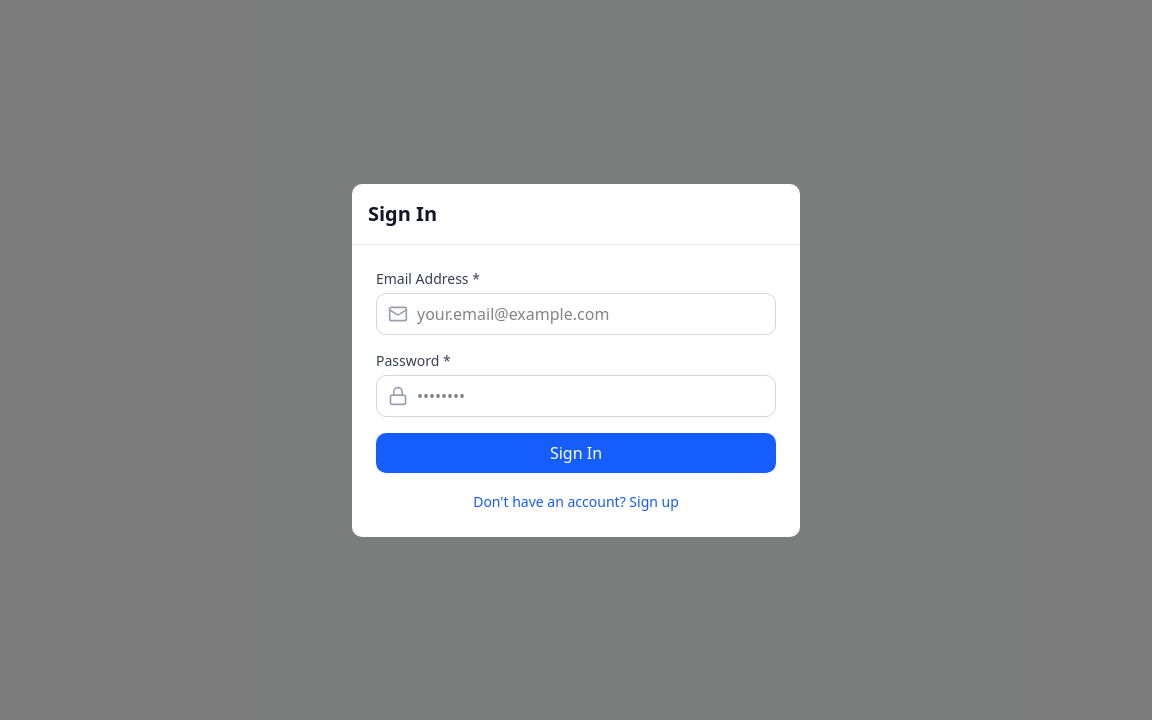
Test: AuthModal › Sign In › signs in with valid credentials and opens the dashboard
The image size is (1152, 720).
Type "jane@example.com" into the field with placeholder "your.email@example.com".
click(576, 314); type("jane@example.com")  # box [376, 292, 776, 334]
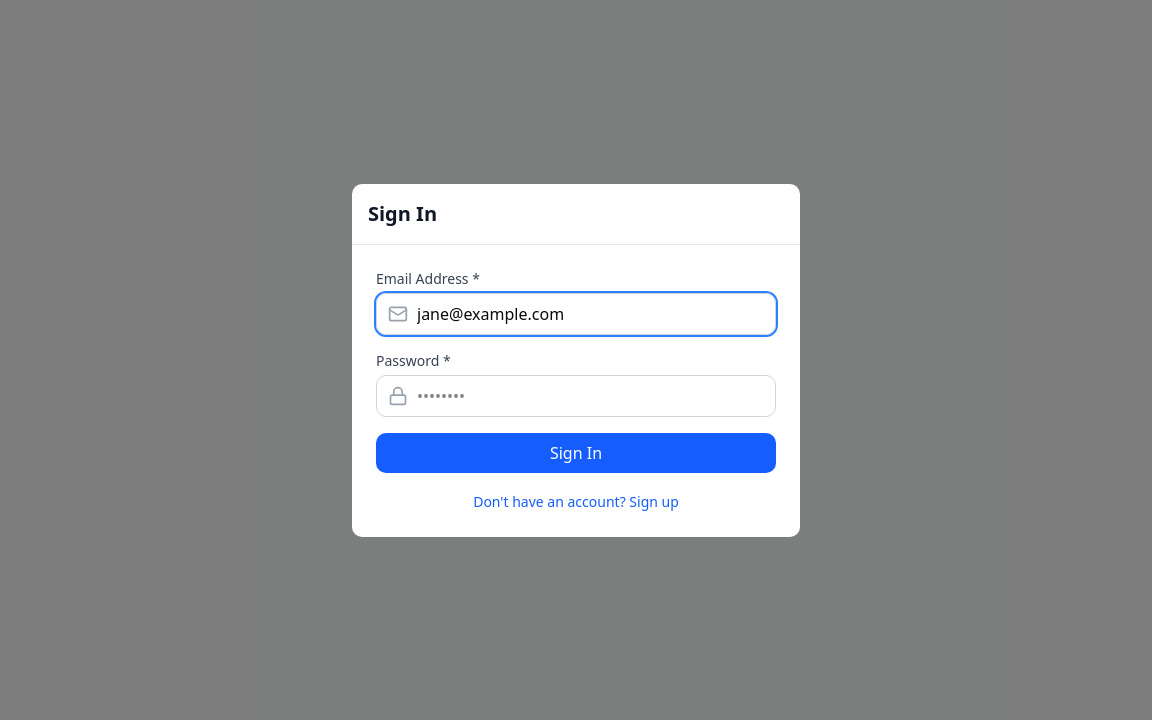
Type "Secret123" into the password field with placeholder "••••••••".
click(576, 396); type("Secret123")  # box [376, 374, 776, 416]
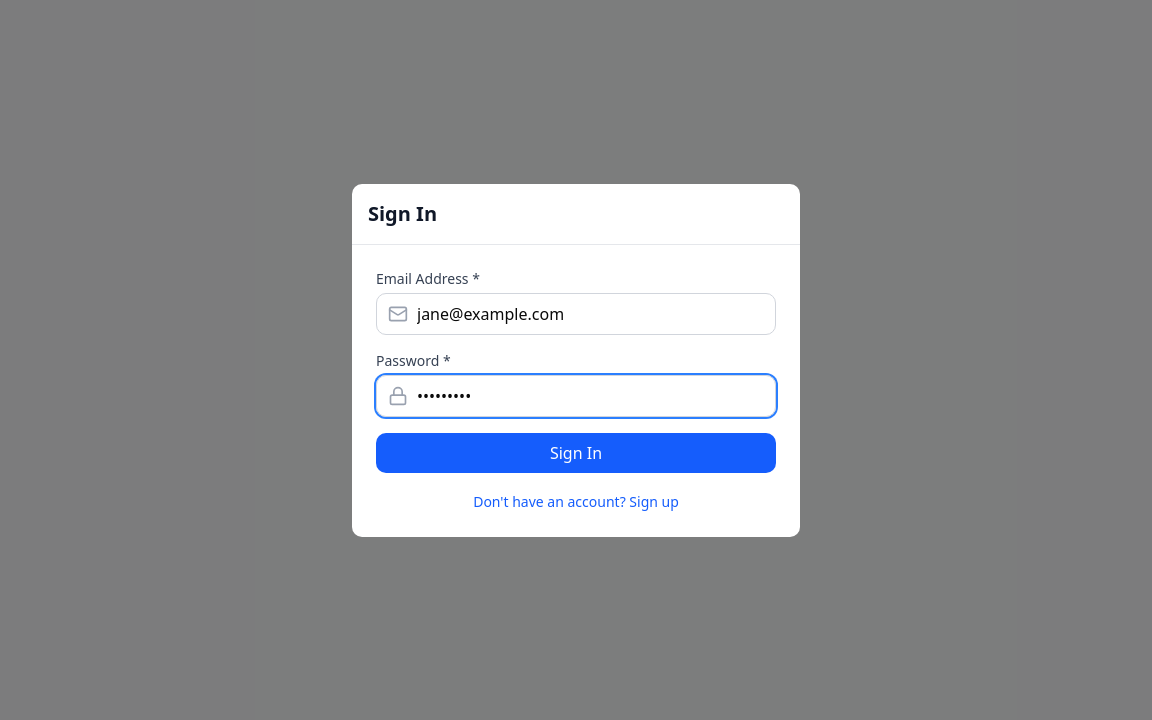
Click the button "Sign In".
click(576, 452)  # box [376, 432, 776, 472]
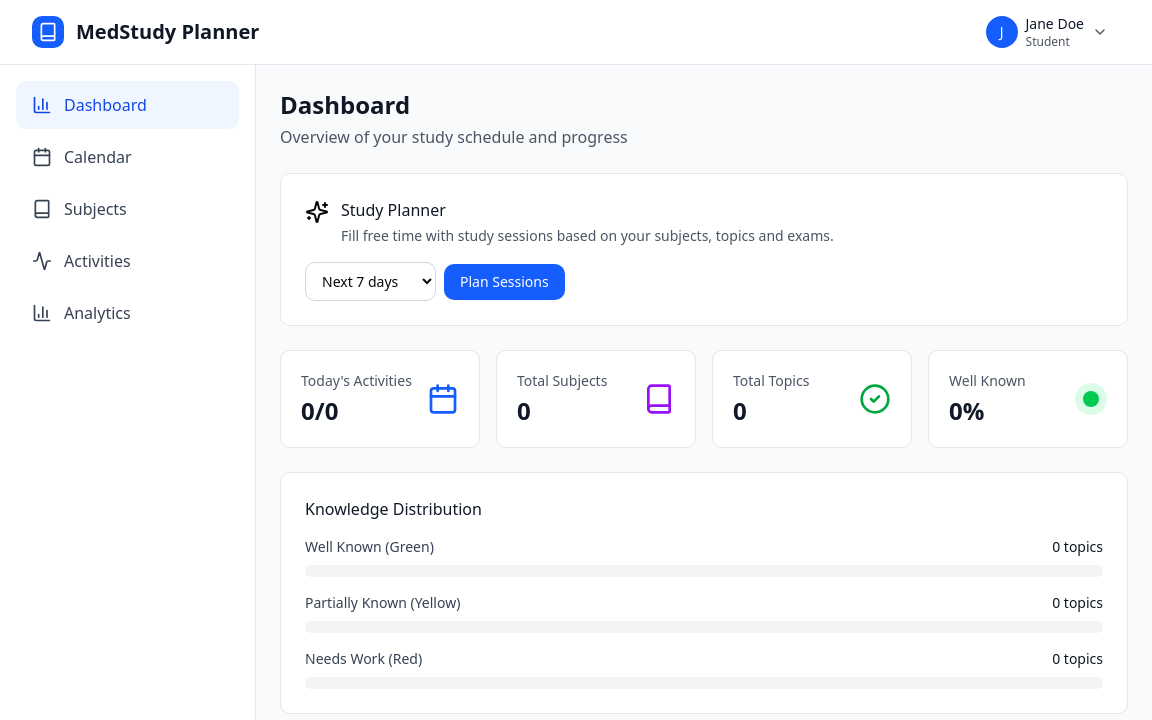
Check: the heading "Dashboard" is shown, box [280, 88, 410, 121]
